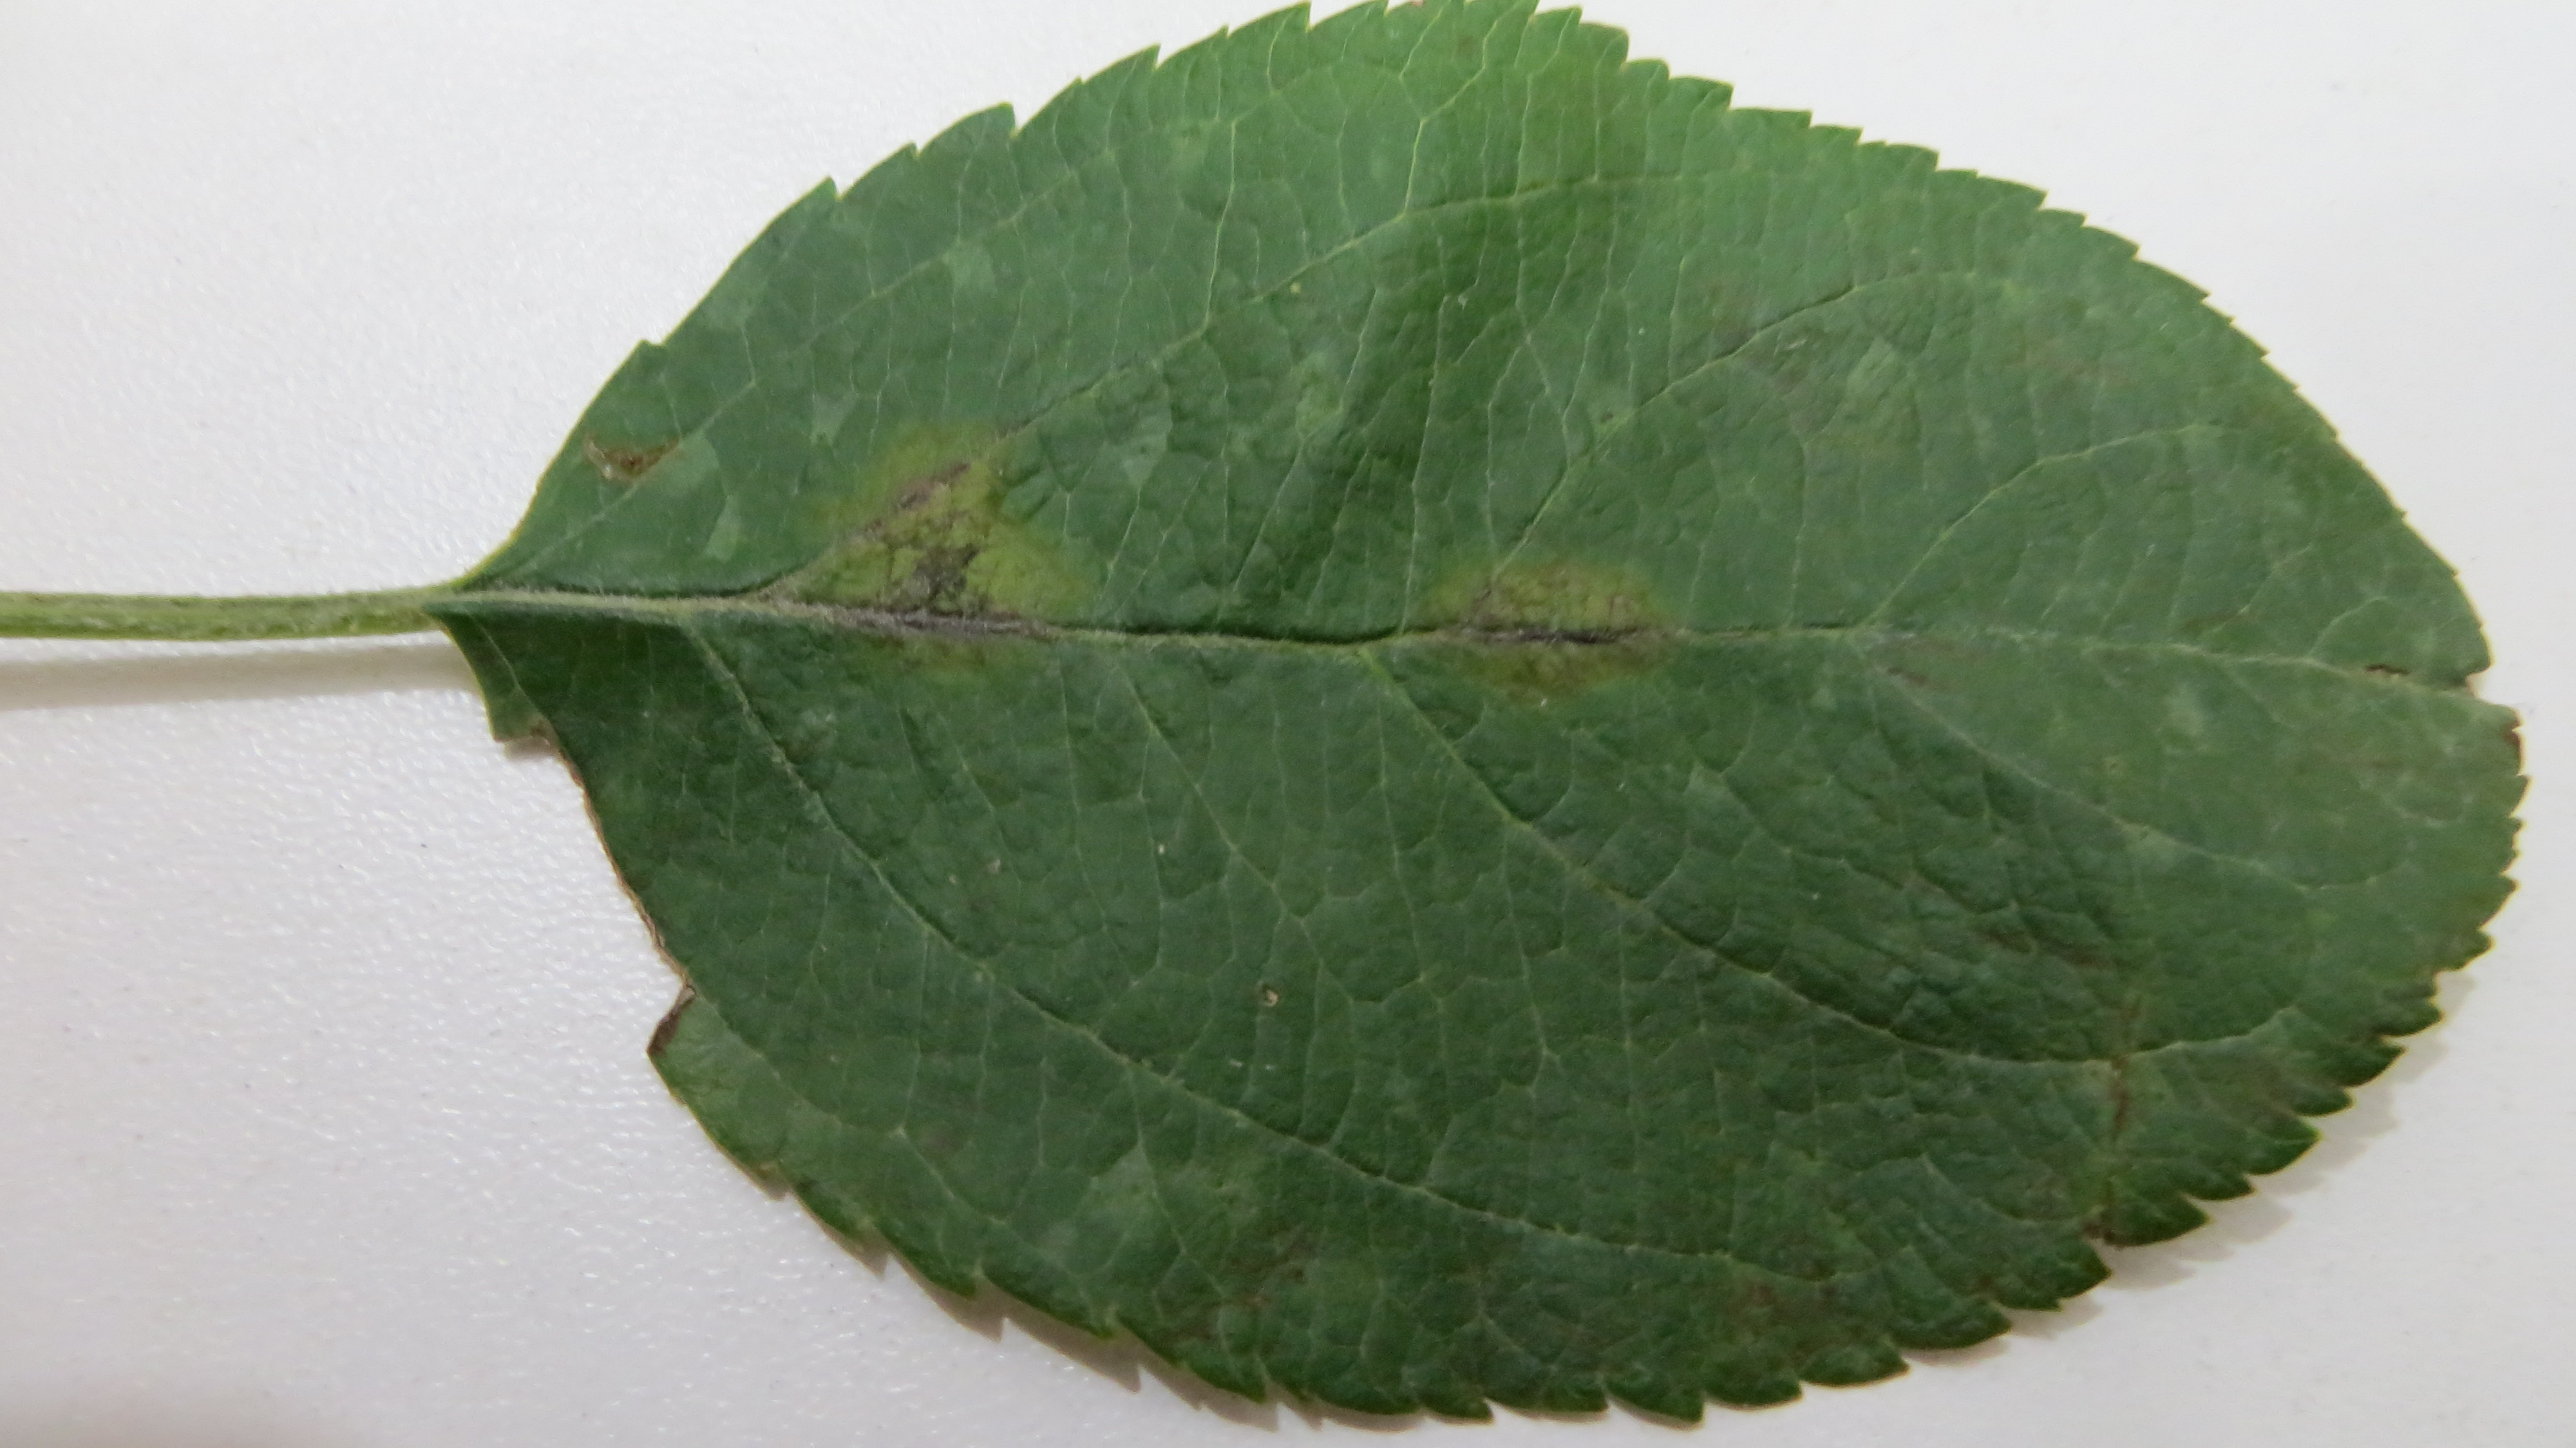sarna: (828, 407, 1070, 676), (1426, 542, 1670, 701), (556, 420, 729, 492)
